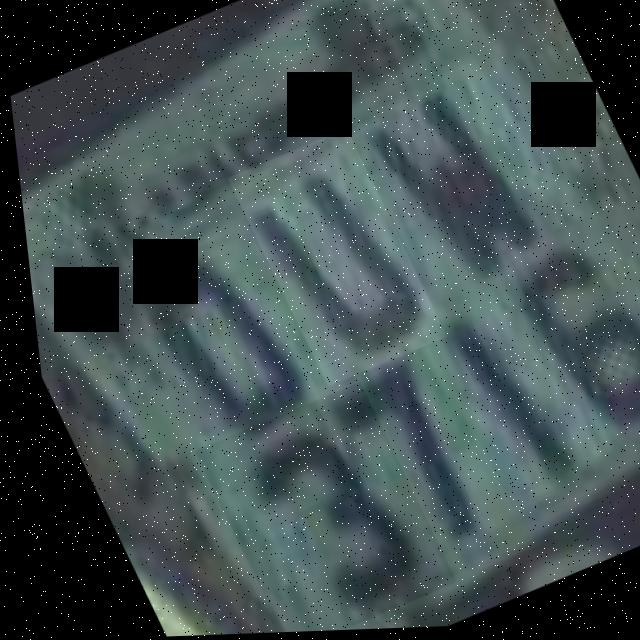1: (408, 280, 588, 515)
3: (178, 382, 447, 636)
6: (479, 216, 640, 468)
7: (296, 326, 507, 577)
O: (105, 220, 316, 462)
U: (219, 128, 443, 391)
W: (343, 61, 548, 296)
